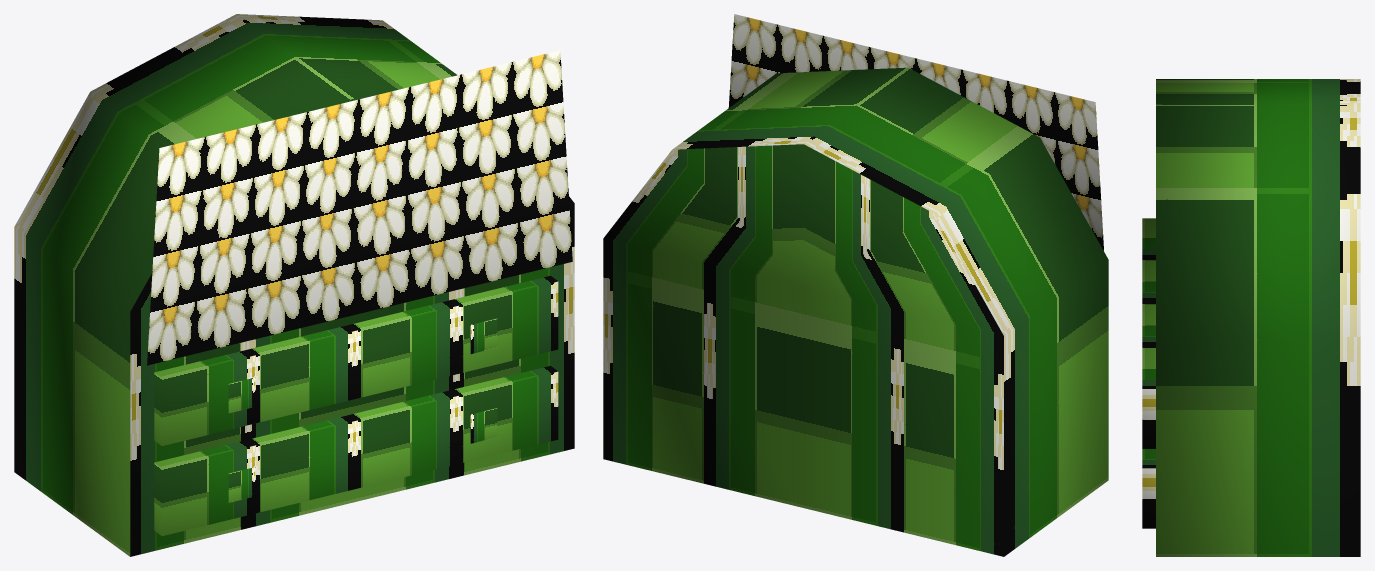
The model's file is 3190IMFY07_02.gltf.
3 renders of one model, left to right at view 1: azimuth 30°, elevation 25°; view 2: azimuth 150°, elevation 25°; view 3: azimuth 270°, elevation 25°, orthographic. The views are drawn at different scales.
Parts seen in each view (by area): view 1: 3190IMFY07_02; view 2: 3190IMFY07_02; view 3: 3190IMFY07_02.
Part boxes in pixels (x1,y1,x2,y2): 3190IMFY07_02: (14,14,574,556); 3190IMFY07_02: (603,14,1108,556); 3190IMFY07_02: (1142,79,1360,556).
Size of the model in its own units: 2 by 1.76 by 0.9858.
Materials: 2 (2 with a texture image).
